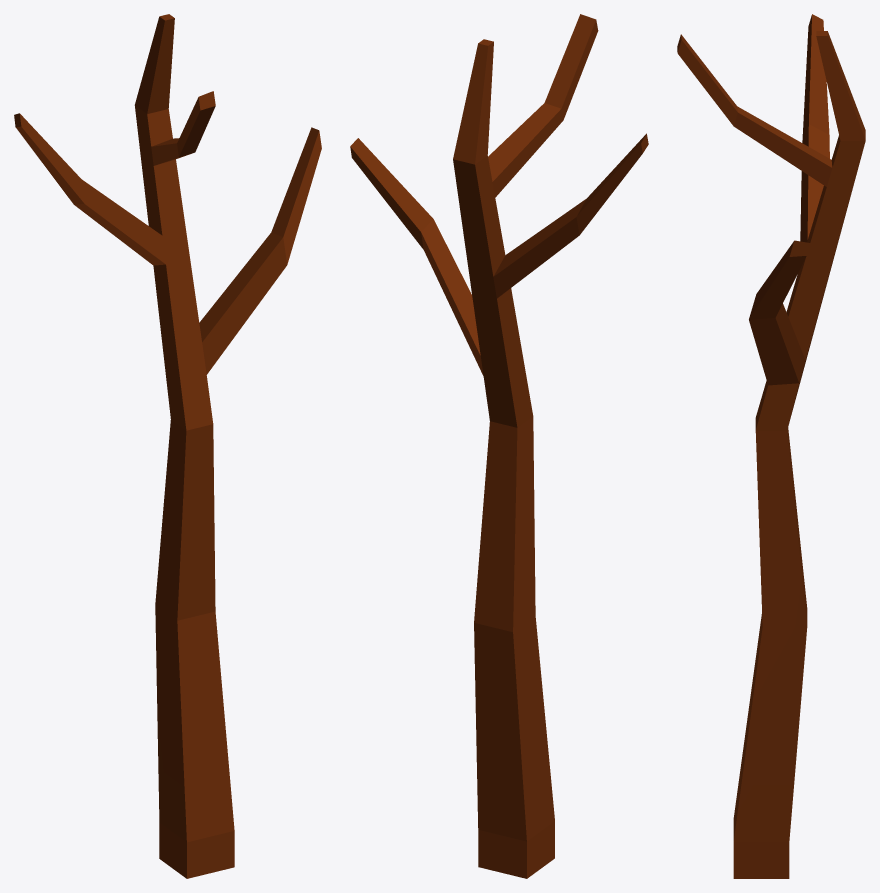
The model's file is Dead_Tree5.fbx.
3 views of the same model, side by side, from view 1: azimuth 30°, elevation 25°; view 2: azimuth 150°, elevation 25°; view 3: azimuth 270°, elevation 25° (orthographic). The views are drawn at different scales.
Parts seen in each view (by area): view 1: Cube; view 2: Cube; view 3: Cube.
Boxes of the visible parts, left/top/right/bottom form: Cube: left=14, top=14, right=321, bottom=878; Cube: left=350, top=14, right=648, bottom=878; Cube: left=677, top=14, right=865, bottom=878.
Size of the model in its own units: 371 by 1002 by 205.
